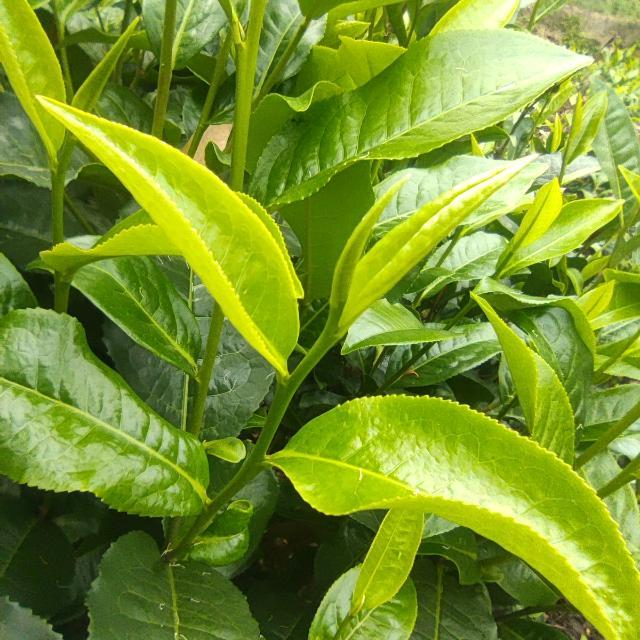Stem: (311, 328, 340, 356), (52, 169, 65, 186)
